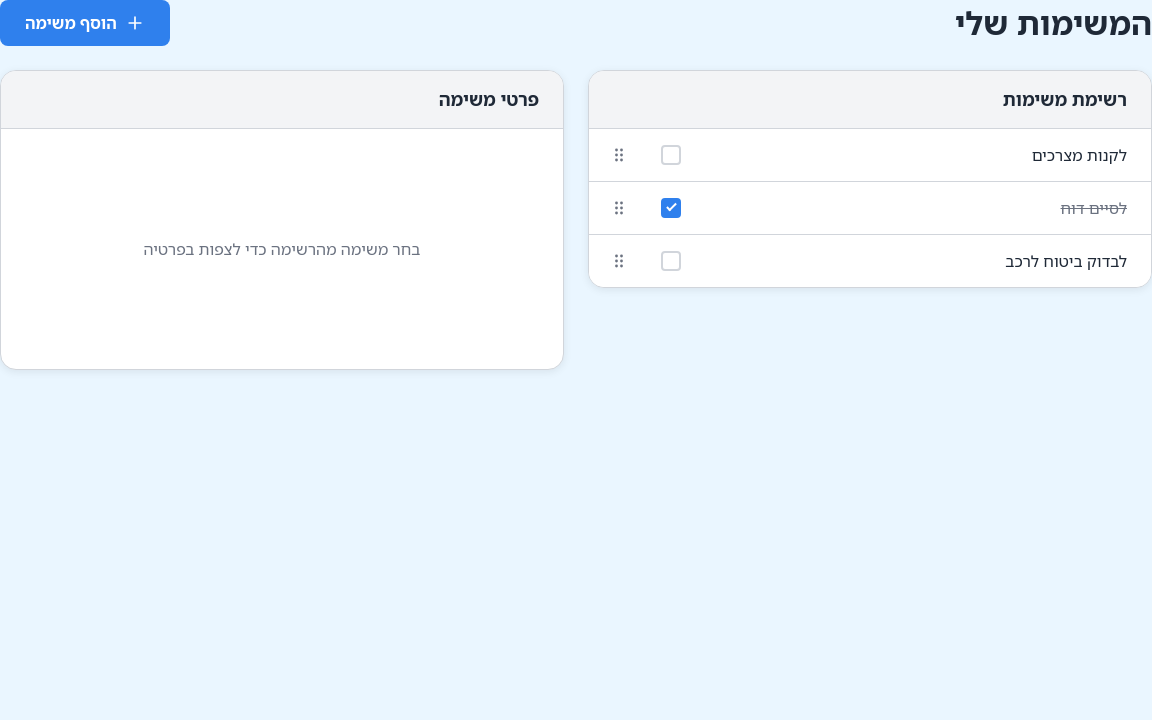
Test: HomePage › a failed delete keeps the task in the list and shows the error
This screenshot has width=1152, height=720.
Click the button "לסיים דוח" at (1094, 208), box [701,182,1151,234]
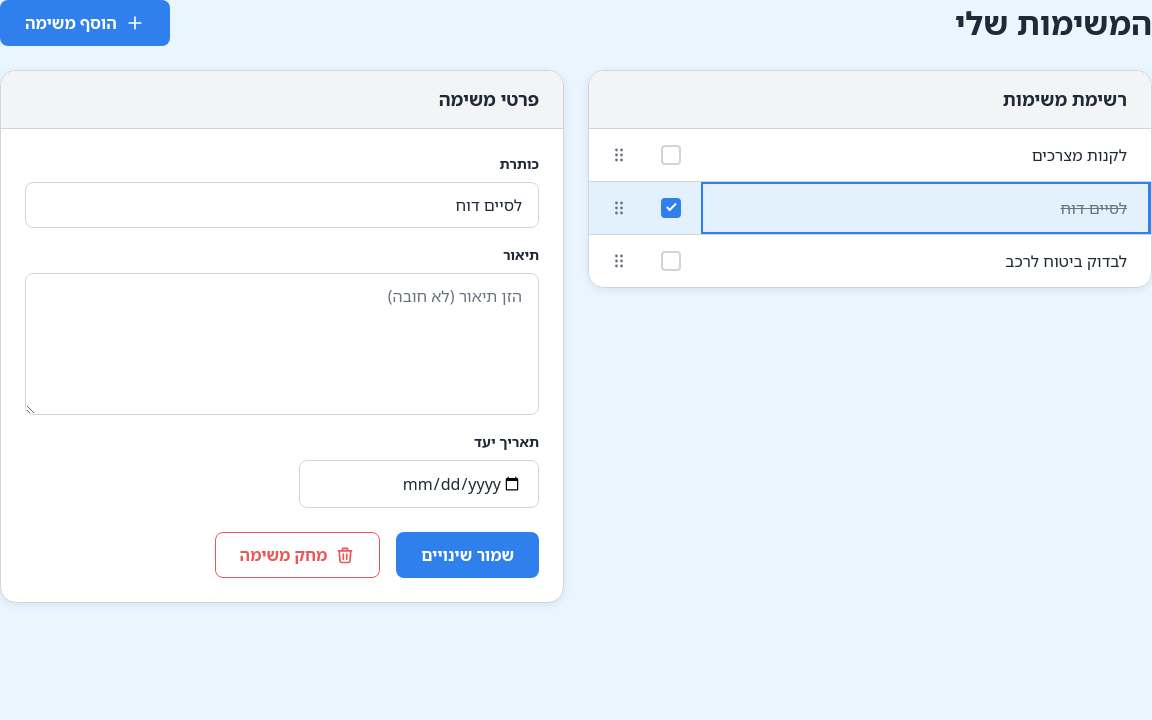
Click the button "מחק משימה" at (297, 555), box [215,532,380,578]
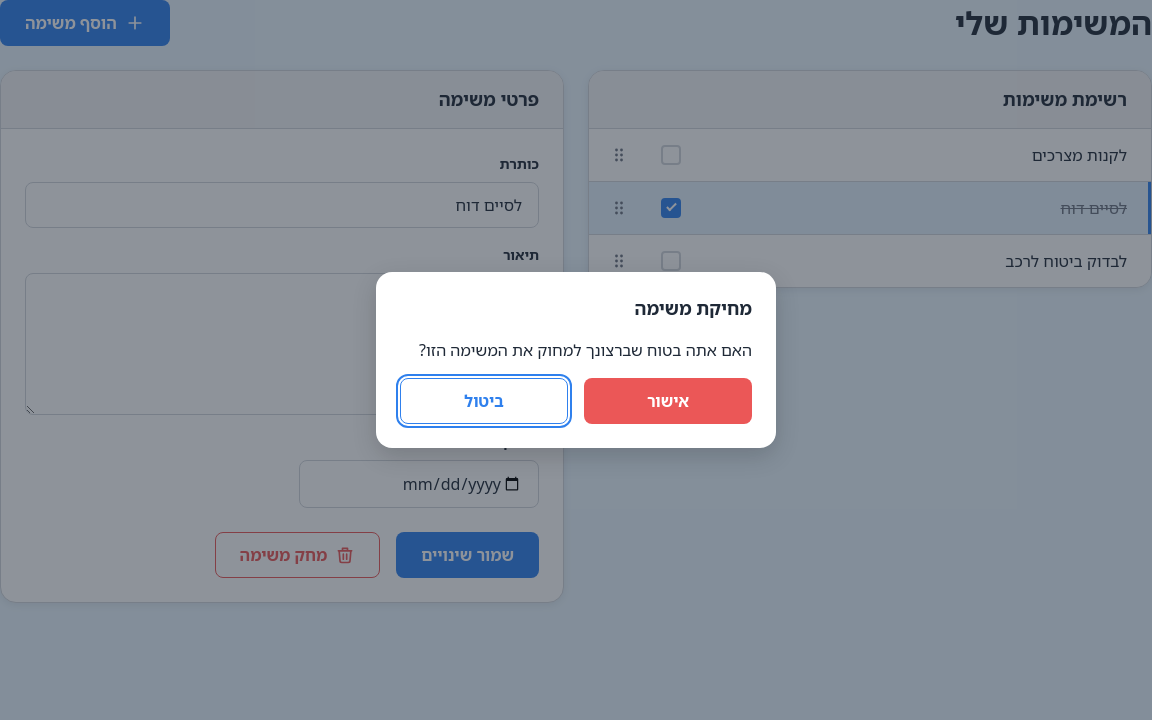
Click the button "אישור" at (668, 401), box [584,378,752,424]
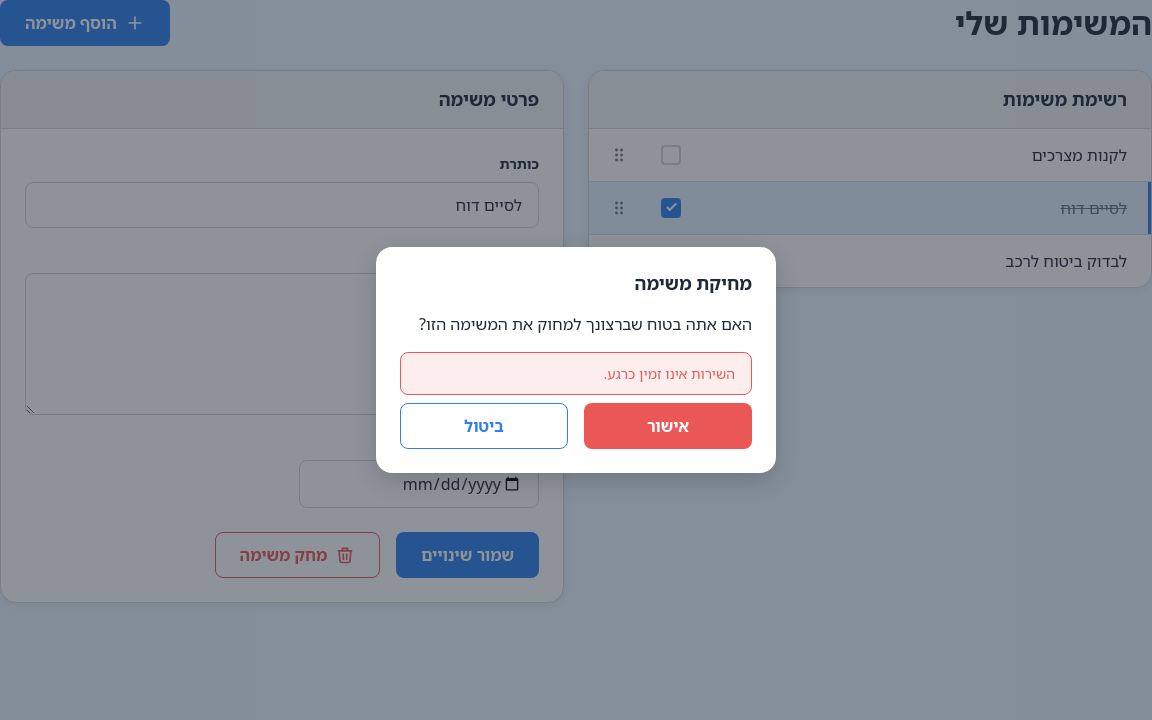
Check: the number of list items is 3, box [589,129,1151,181]; [589,181,1151,234]; [589,234,1151,287]
Check: the message reads "השירות אינו זמין כרגע.", box [604,364,735,383]
Click the button "ביטול" at (484, 426), box [400,403,568,449]
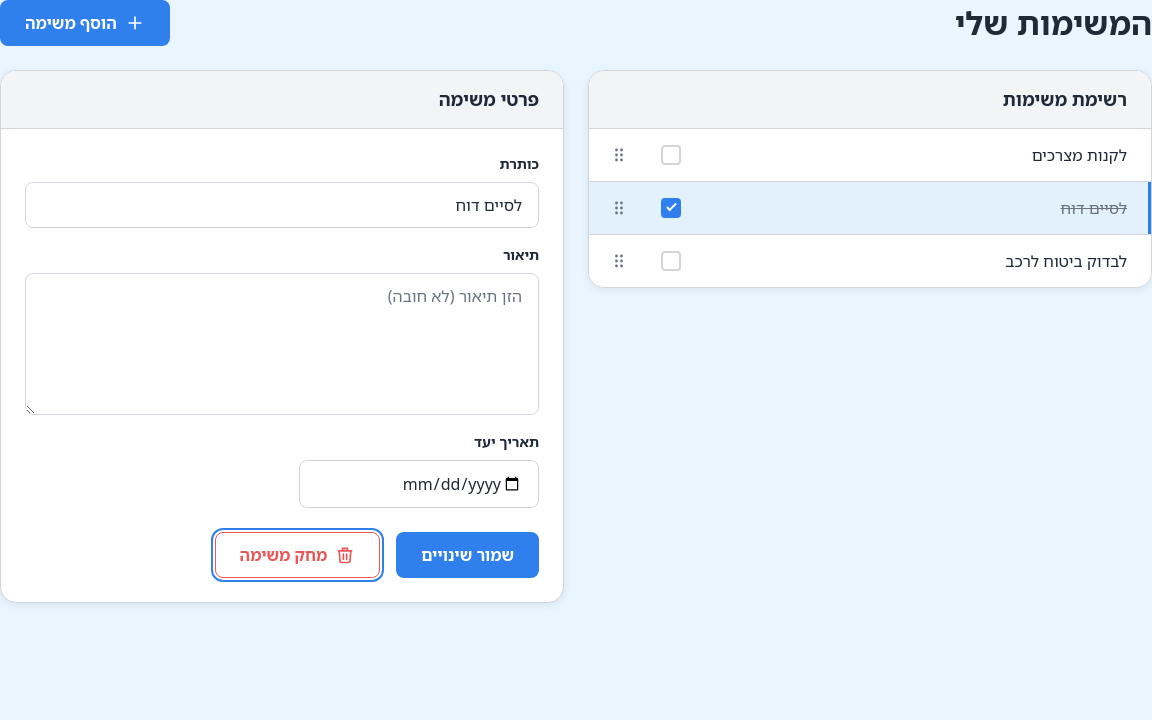
Check: the field labelled "כותרת" holds "לסיים דוח", box [25,182,539,228]
Check: the dialog is gone
